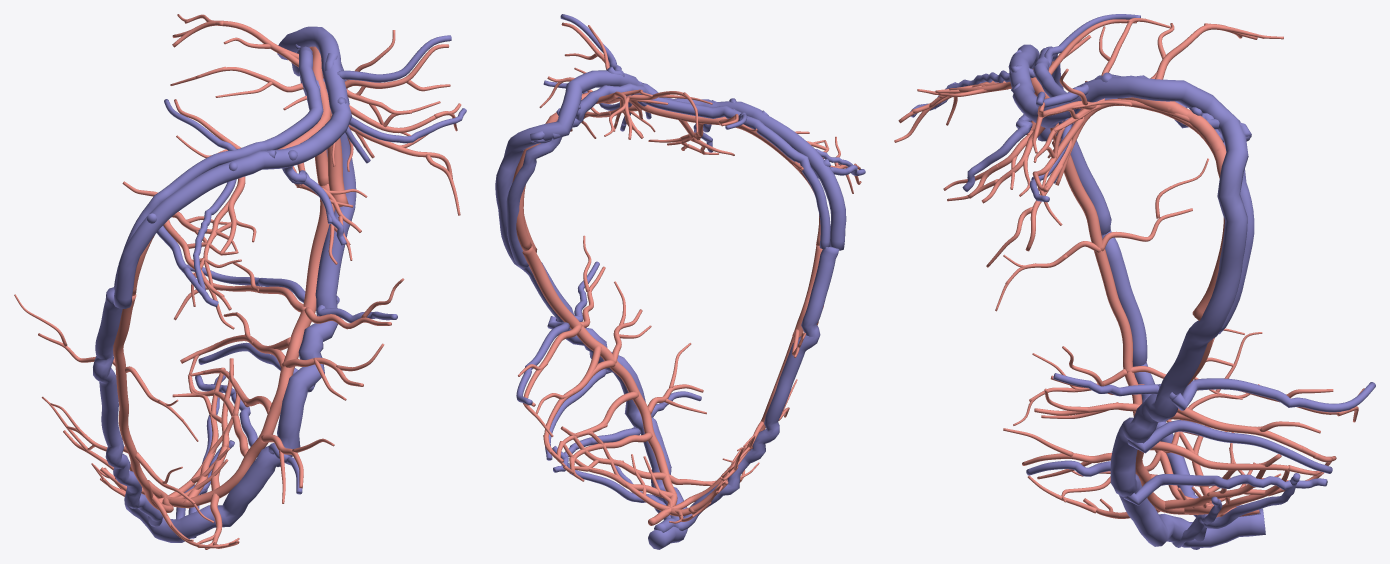
Rendered from vessels_0.glb.
3 renders of one model, left to right at view 1: azimuth 30°, elevation 25°; view 2: azimuth 150°, elevation 25°; view 3: azimuth 270°, elevation 25°, orthographic. The views are drawn at different scales.
Parts seen in each view (by area): view 1: Renderer Node; view 2: Renderer Node; view 3: Renderer Node.
Part boxes in pixels (x1,y1,x2,y2): Renderer Node: (14,14,466,549); Renderer Node: (495,14,865,549); Renderer Node: (894,14,1375,549).
Bounding box in the file's own units: 95.21 × 124 × 95.73.
